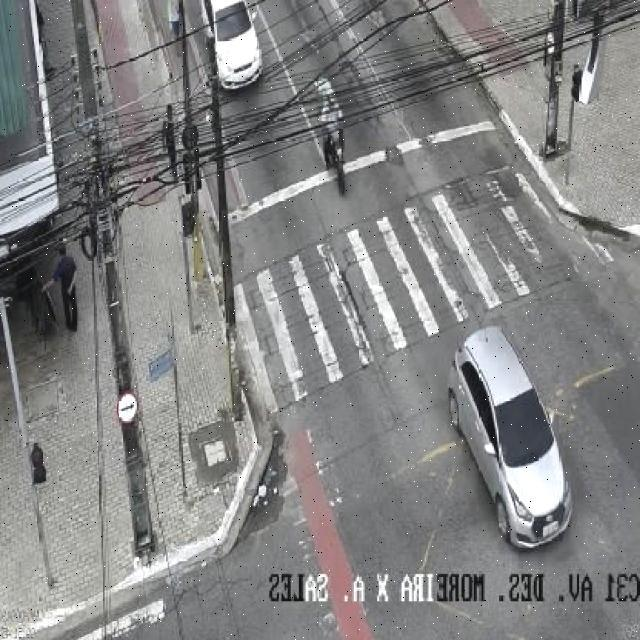Car: (445, 323, 575, 552), (197, 0, 267, 93)
Cycle: (317, 115, 351, 191)
